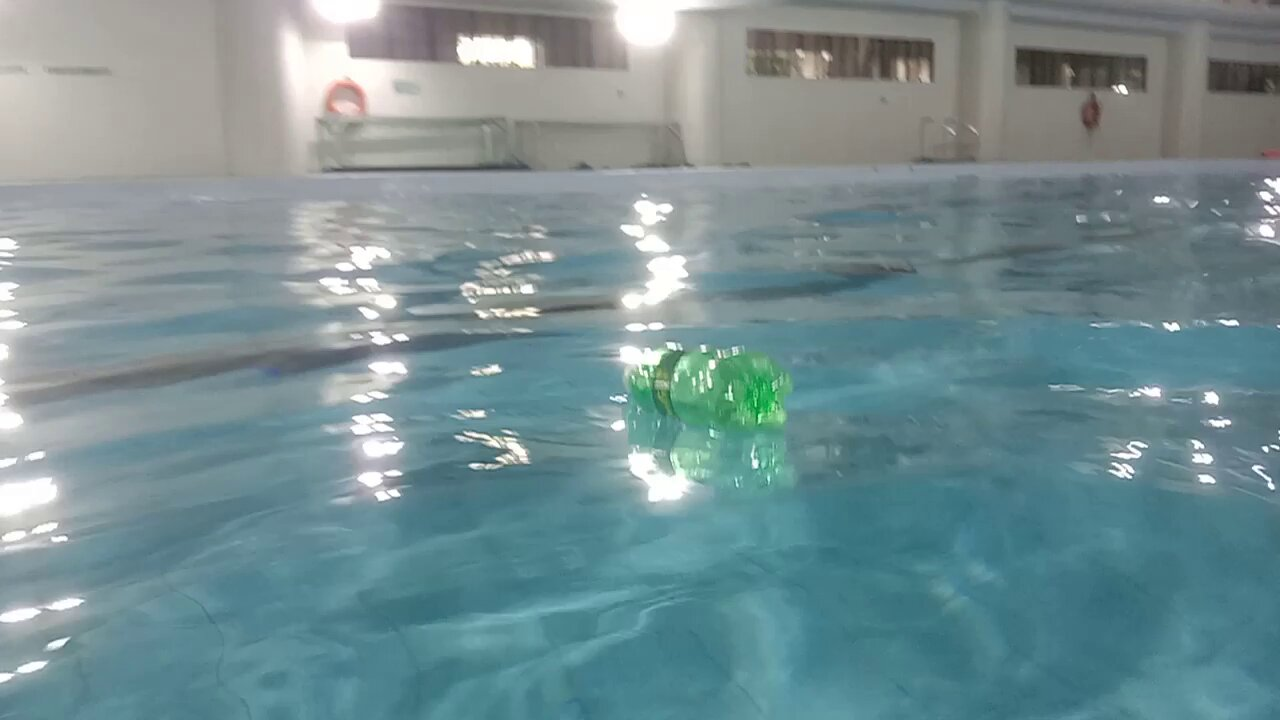plastic_bottle: (626, 348, 793, 427)
